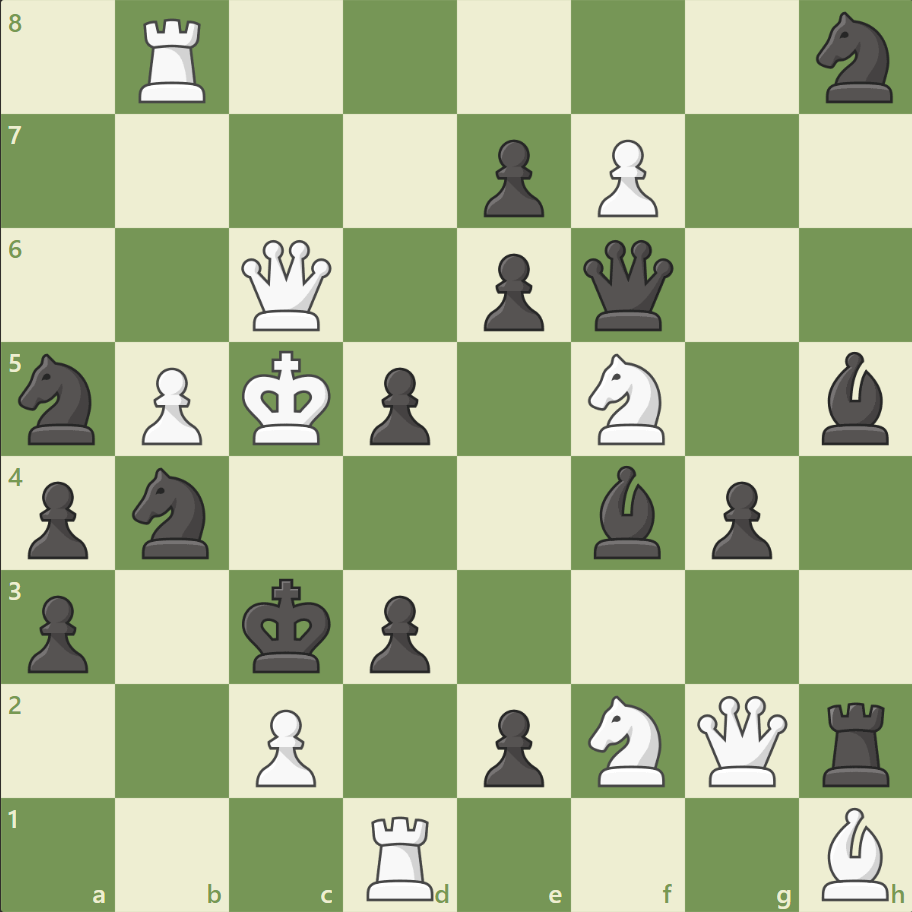B: (812, 801, 896, 904)
K: (238, 344, 338, 452)
N: (579, 688, 676, 791), (579, 348, 676, 450)
P: (133, 359, 208, 450), (247, 700, 322, 791), (588, 132, 662, 223)
Q: (237, 236, 336, 335), (691, 690, 790, 789)
R: (360, 806, 442, 904), (133, 12, 215, 109)
b: (585, 460, 669, 563), (812, 347, 896, 449)
k: (238, 571, 338, 679)
n: (124, 461, 222, 564), (806, 7, 903, 110), (11, 348, 108, 450)
p: (474, 132, 549, 223), (474, 246, 549, 337), (20, 473, 95, 564), (701, 473, 776, 564), (20, 586, 95, 677), (474, 700, 549, 791), (361, 359, 435, 450), (361, 586, 435, 677)
q: (578, 236, 677, 335)
r: (814, 693, 897, 790)
